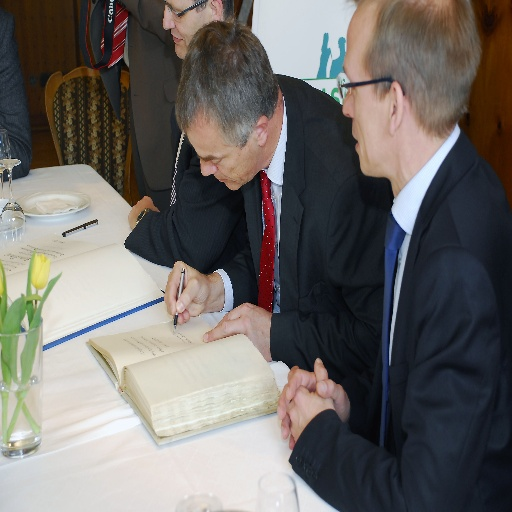hand: (273, 366, 352, 453), (282, 360, 335, 448), (201, 299, 273, 361), (169, 266, 221, 330), (125, 192, 160, 230)
